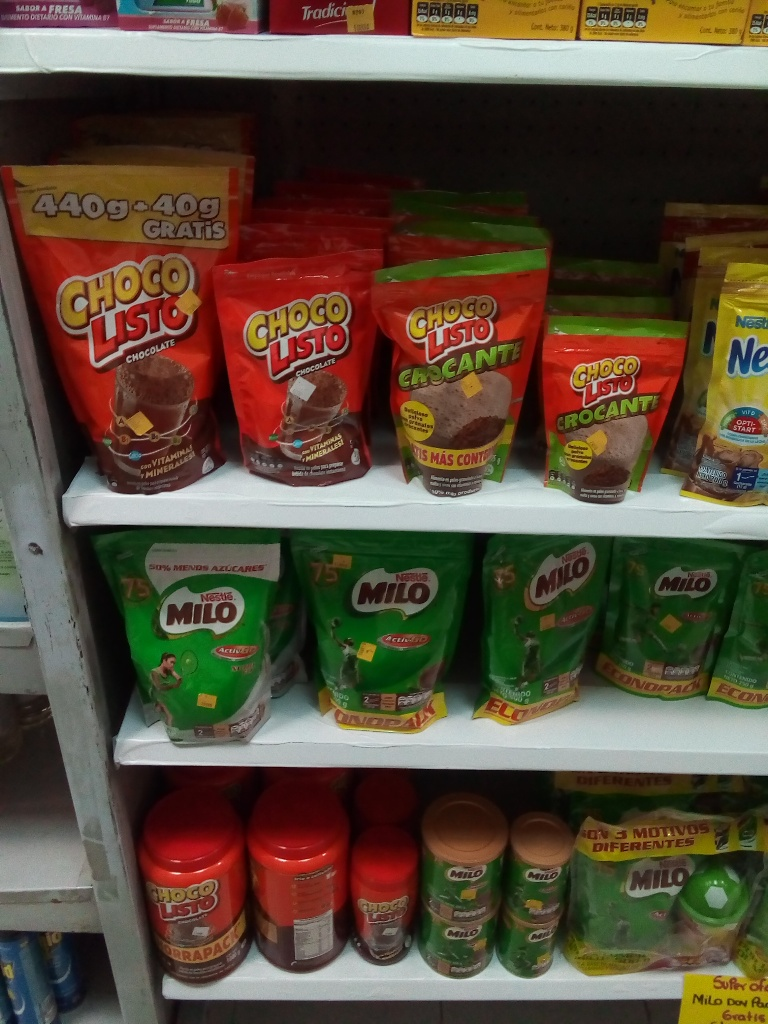COL0170102DYP10000: (545, 304, 679, 505)
COL0170102DYP25000: (384, 229, 546, 508)
COL0170103DYP20000: (232, 225, 384, 504)
COL0170103TRR00100: (123, 775, 251, 979)
COL0170103TRR30000: (350, 835, 414, 974)
COL0170203DYP25000: (603, 537, 740, 730)
COL0170203DYP50000: (568, 859, 686, 974)
COL0170203LAT20000: (509, 810, 559, 926)
COL0170203LAT40000: (416, 780, 505, 906)
COL0170205DYP50000: (82, 527, 289, 748)
COL0170303DYP20000: (684, 263, 768, 501)
